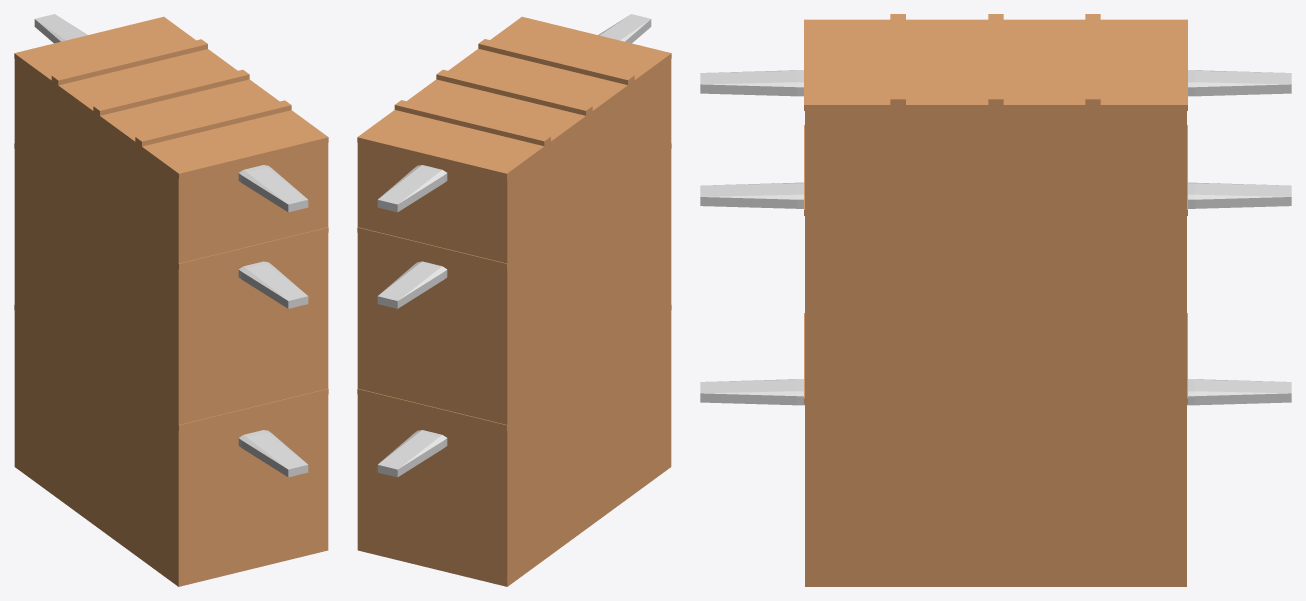
The model's file is BoxTall.fbx.
3 views of the same model, side by side, from view 1: azimuth 30°, elevation 25°; view 2: azimuth 150°, elevation 25°; view 3: azimuth 270°, elevation 25° (orthographic). The views are drawn at different scales.
Visible parts, largest first — view 1: Cube.001, Cube.002, Cube.008, Cube.006, Cube.004, Cube.009, Cube.007, Cube.003, Cube, Cube.005; view 2: Cube.001, Cube.002, Cube.008, Cube.006, Cube.004, Cube.009, Cube.007, Cube.003, Cube, Cube.005; view 3: Cube.001, Cube.002, Cube.008, Cube.006, Cube.009, Cube, Cube.005, Cube.004, Cube.003, Cube.007.
Part boxes in pixels (x1,y1,x2,y2): Cube.001: (14, 310, 328, 586); Cube.002: (14, 149, 328, 425); Cube.008: (14, 58, 328, 263); Cube.006: (14, 16, 328, 178); Cube.004: (51, 39, 291, 146); Cube.009: (34, 14, 308, 212); Cube.007: (14, 143, 328, 268); Cube.003: (14, 305, 328, 430); Cube: (238, 430, 308, 477); Cube.005: (238, 261, 308, 308); Cube.001: (357, 310, 671, 586); Cube.002: (357, 149, 671, 425); Cube.008: (357, 58, 671, 263); Cube.006: (357, 16, 671, 178); Cube.004: (394, 39, 634, 146); Cube.009: (377, 14, 651, 212); Cube.007: (357, 143, 671, 268); Cube.003: (357, 305, 671, 430); Cube: (377, 430, 447, 477); Cube.005: (377, 261, 447, 308); Cube.001: (805, 404, 1186, 586); Cube.002: (805, 216, 1186, 398); Cube.008: (805, 110, 1186, 210); Cube.006: (804, 19, 1187, 110); Cube.009: (700, 70, 1291, 96); Cube: (700, 379, 1291, 405); Cube.005: (700, 182, 1291, 208); Cube.004: (890, 14, 1100, 105); Cube.003: (804, 313, 1187, 404); Cube.007: (804, 125, 1187, 215).
Size of the model in its own units: 515 by 1374 by 1510.
